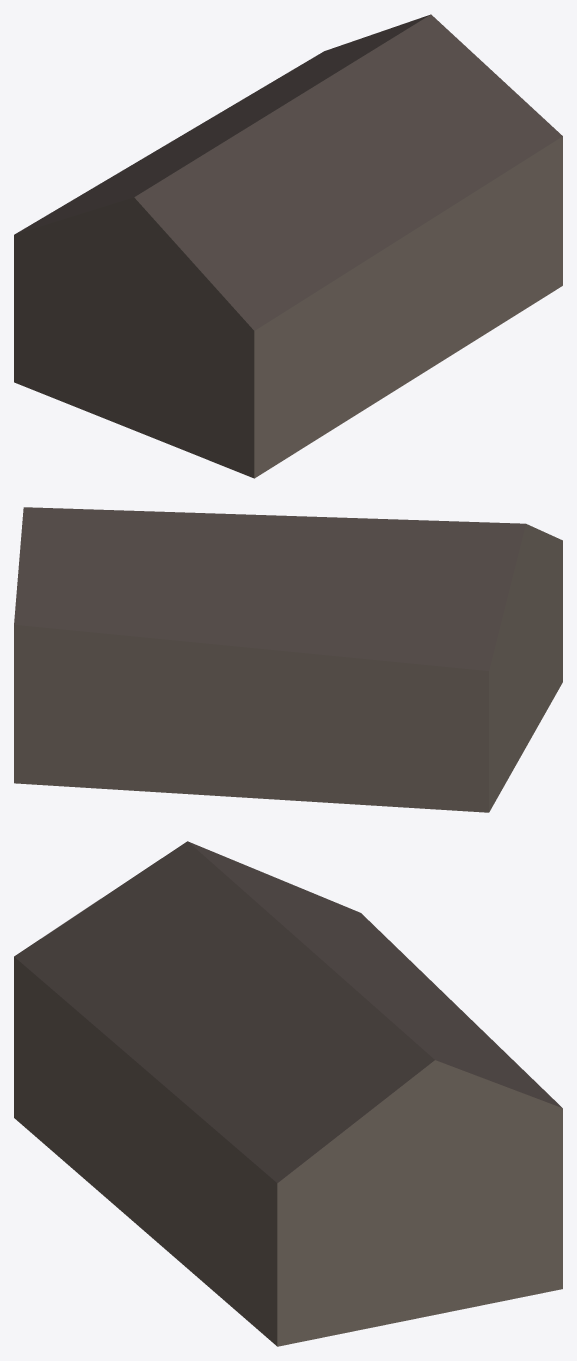
The picture shows the model from 3 angles, top to bottom: view 1: azimuth 30°, elevation 25°; view 2: azimuth 150°, elevation 25°; view 3: azimuth 270°, elevation 25°; orthographic projection. The views are drawn at different scales.
Visible parts, largest first — view 1: HP-w1196417814; view 2: HP-w1196417814; view 3: HP-w1196417814.
Boxes of the visible parts, x1=… form: HP-w1196417814: x1=14, y1=14, x2=562, y2=478; HP-w1196417814: x1=14, y1=507, x2=562, y2=812; HP-w1196417814: x1=14, y1=841, x2=562, y2=1346.
Size of the model in its own units: 21.73 by 9.48 by 18.5.
